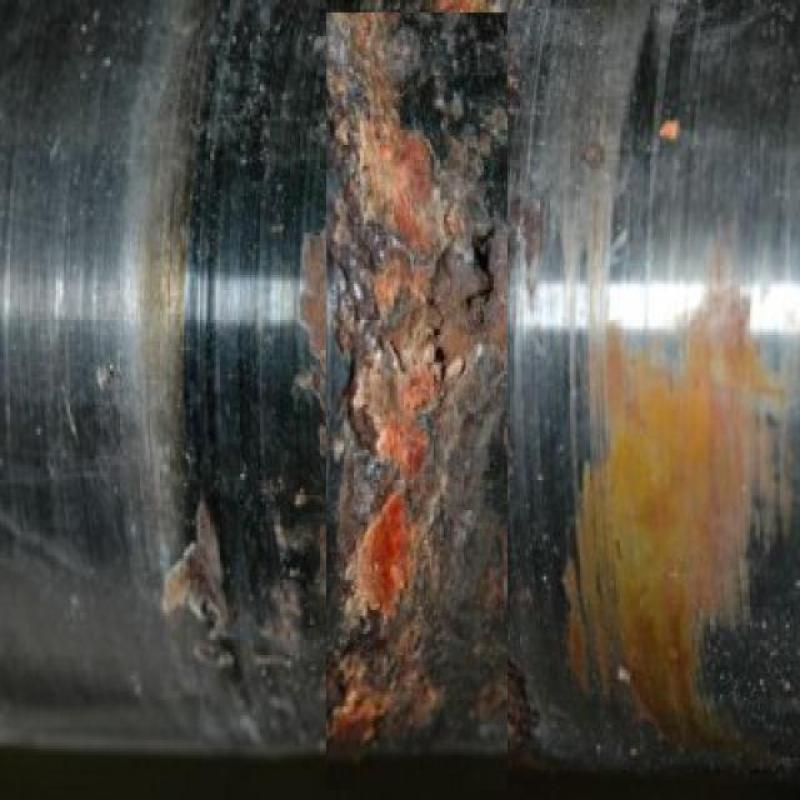Fracture: (278, 5, 520, 737)
